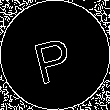P_N: (31, 26, 79, 84)
